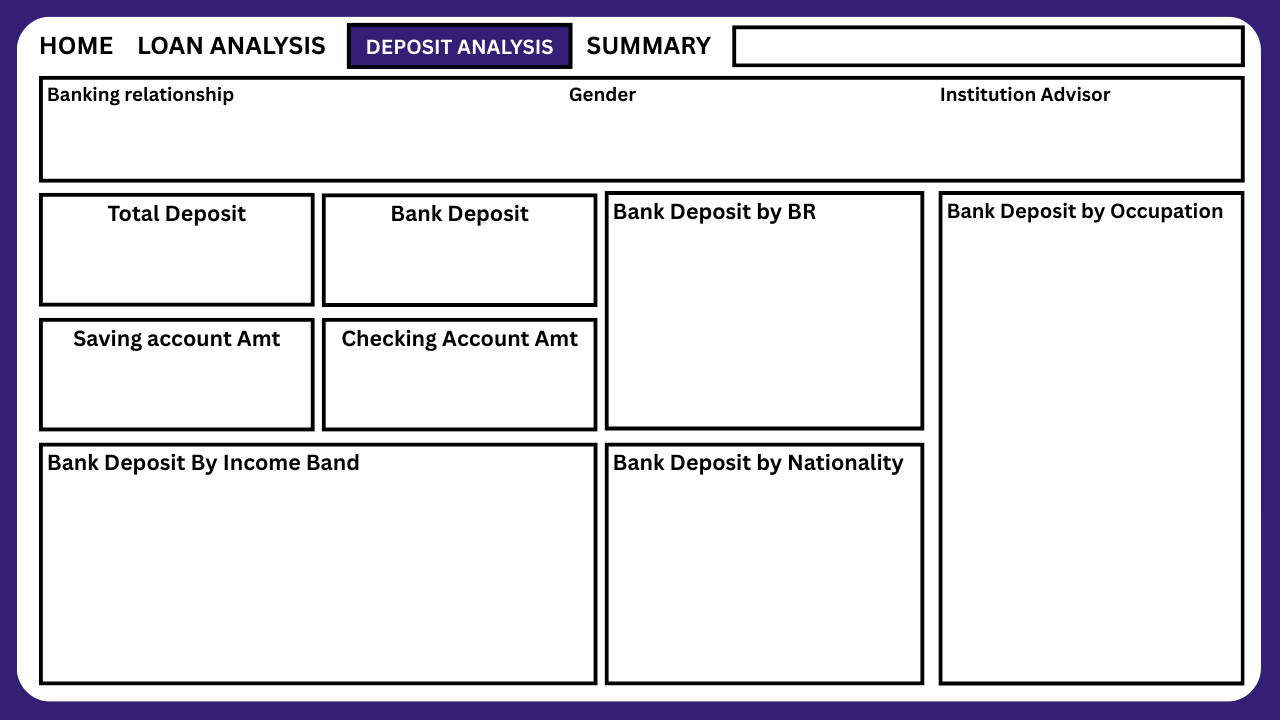

The dashboard page shown, as its layout file describes it:
{"tool":"powerbi","page":{"name":"Deposit Analysis","canvas":[1280,720],"ordinal":2},"visuals":[{"type":"slicer","fields":{"Values":["banking_case customer.Year Of Joining"]},"box":[717.5,20,540,42.5],"z":0},{"type":"card","fields":{"Values":["banking_case customer.Total Deposit"]},"box":[37.5,195,280,112.5],"z":1000},{"type":"card","fields":{"Values":["Sum(banking_case customer.Bank Deposits)"]},"box":[317.5,197.5,280,112.5],"z":2000},{"type":"card","fields":{"Values":["Sum(banking_case customer.Checking Accounts)"]},"box":[317.5,320,280,112.5],"z":3000},{"type":"card","fields":{"Values":["Sum(banking_case customer.Saving Accounts)"]},"box":[45,335,262.5,85],"z":4000},{"type":"donutChart","fields":{"Category":["banking_case customer.Income Band"],"Y":["Sum(banking_case customer.Bank Deposits)"]},"box":[46,470,538,202],"z":5000},{"type":"actionButton","box":[24,20,98,42],"z":6000},{"type":"actionButton","box":[584,22,130,40],"z":7000},{"type":"actionButton","box":[136,22,182,42],"z":8000},{"type":"pieChart","fields":{"Category":["banking_case customer.BRId"],"Y":["Sum(banking_case customer.Bank Deposits)"]},"box":[612,220,322,202],"z":9000},{"type":"columnChart","fields":{"Category":["banking_case customer.Nationality"],"Y":["Sum(banking_case customer.Bank Deposits)"]},"box":[612,470,306,202],"z":10000},{"type":"columnChart","fields":{"Category":["banking_case customer.Occupation"],"Y":["Sum(banking_case customer.Bank Deposits)"]},"box":[948,220,292,452],"z":11000},{"type":"slicer","fields":{"Values":["banking_case customer.BRId"]},"box":[24,106,434,50],"z":12000},{"type":"slicer","fields":{"Values":["banking_case customer.GenderId"]},"box":[470,108,360,50],"z":13000},{"type":"slicer","fields":{"Values":["banking_case customer.IAId"]},"box":[860,106,360,46],"z":14000}]}

Visuals, with their boxes in screenshot pixels (x1, y1, x2, y2), scaled from the page's 1280x720 canvas onto the 1280x720 screenshot:
slicer - banking_case customer.Year Of Joining: bbox(718, 20, 1258, 62)
card - banking_case customer.Total Deposit: bbox(38, 195, 318, 308)
card - Sum(banking_case customer.Bank Deposits): bbox(318, 198, 598, 310)
card - Sum(banking_case customer.Checking Accounts): bbox(318, 320, 598, 432)
card - Sum(banking_case customer.Saving Accounts): bbox(45, 335, 308, 420)
donutChart - banking_case customer.Income Band x Sum(banking_case customer.Bank Deposits): bbox(46, 470, 584, 672)
actionButton: bbox(24, 20, 122, 62)
actionButton: bbox(584, 22, 714, 62)
actionButton: bbox(136, 22, 318, 64)
pieChart - banking_case customer.BRId x Sum(banking_case customer.Bank Deposits): bbox(612, 220, 934, 422)
columnChart - banking_case customer.Nationality x Sum(banking_case customer.Bank Deposits): bbox(612, 470, 918, 672)
columnChart - banking_case customer.Occupation x Sum(banking_case customer.Bank Deposits): bbox(948, 220, 1240, 672)
slicer - banking_case customer.BRId: bbox(24, 106, 458, 156)
slicer - banking_case customer.GenderId: bbox(470, 108, 830, 158)
slicer - banking_case customer.IAId: bbox(860, 106, 1220, 152)
